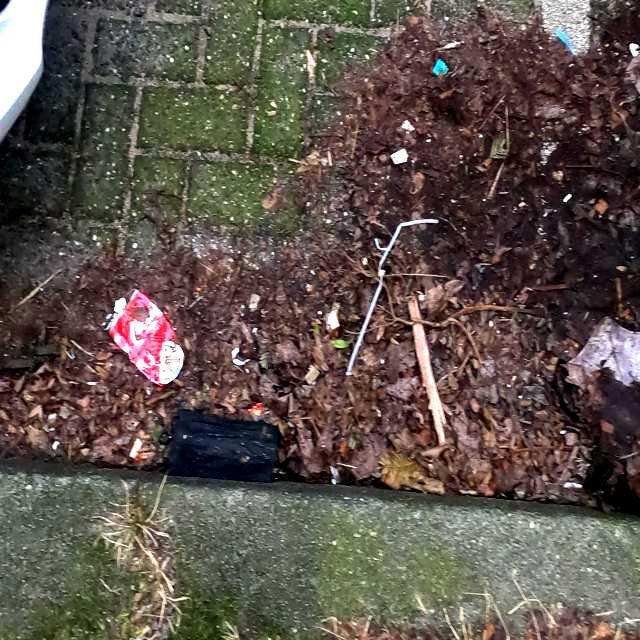Mask: (157, 406, 301, 484)
Metal: (100, 286, 186, 389)
